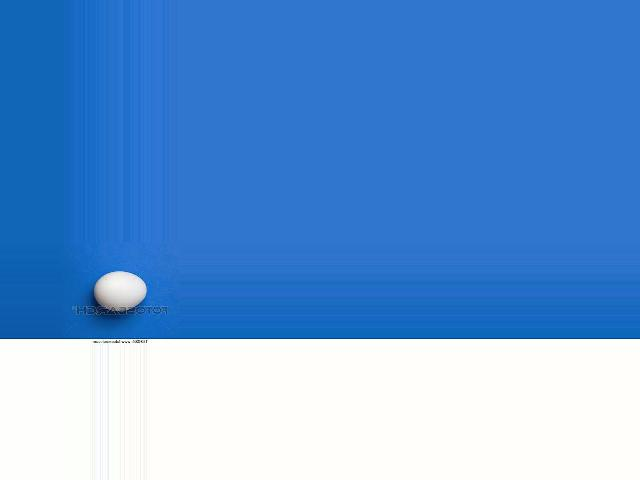egg: (93, 271, 146, 312)
